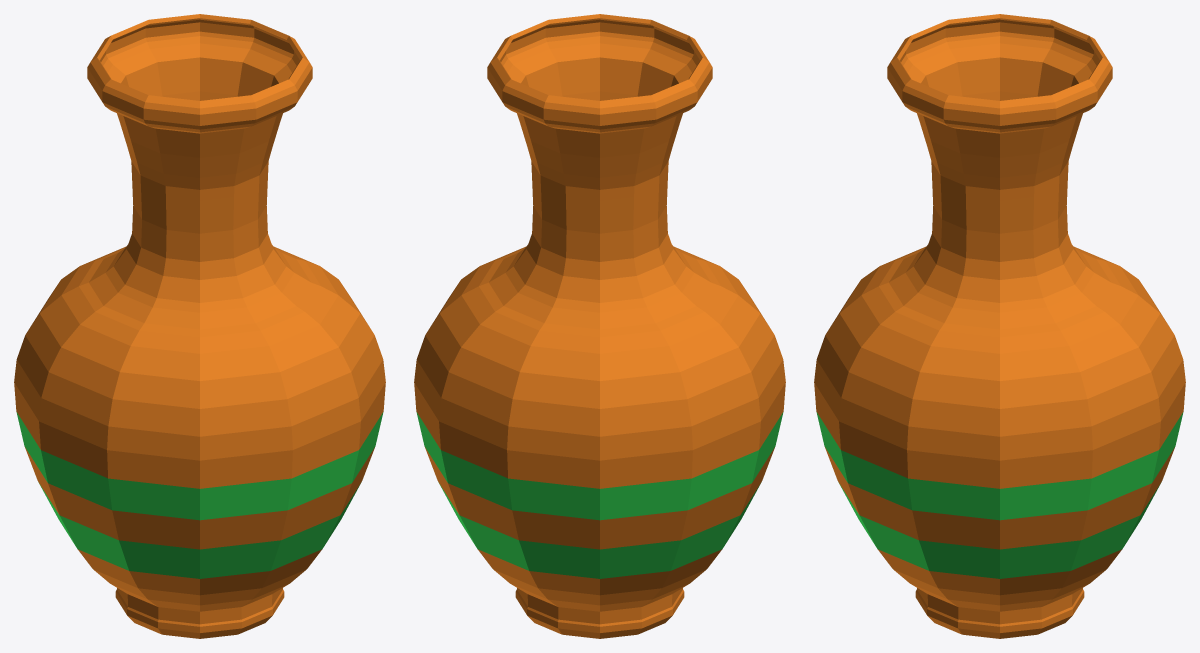
The model's file is CtrlAlt_Vase_4.fbx.
3 views of the same model, side by side, from view 1: azimuth 30°, elevation 25°; view 2: azimuth 150°, elevation 25°; view 3: azimuth 270°, elevation 25° (orthographic).
Visible parts, largest first — view 1: Cube.001; view 2: Cube.001; view 3: Cube.001.
Part boxes in pixels (bbox=[...]): Cube.001: bbox=[14, 14, 385, 638]; Cube.001: bbox=[414, 14, 785, 638]; Cube.001: bbox=[814, 14, 1185, 638].
Size of the model in its own units: 259 by 430 by 259.
